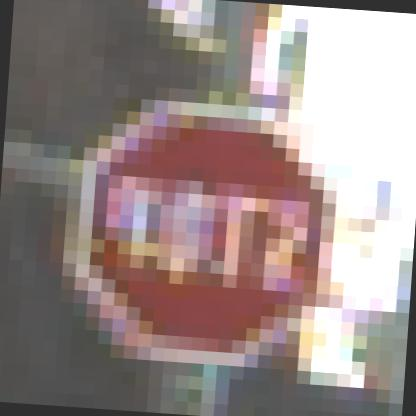stop: (57, 104, 345, 380)
